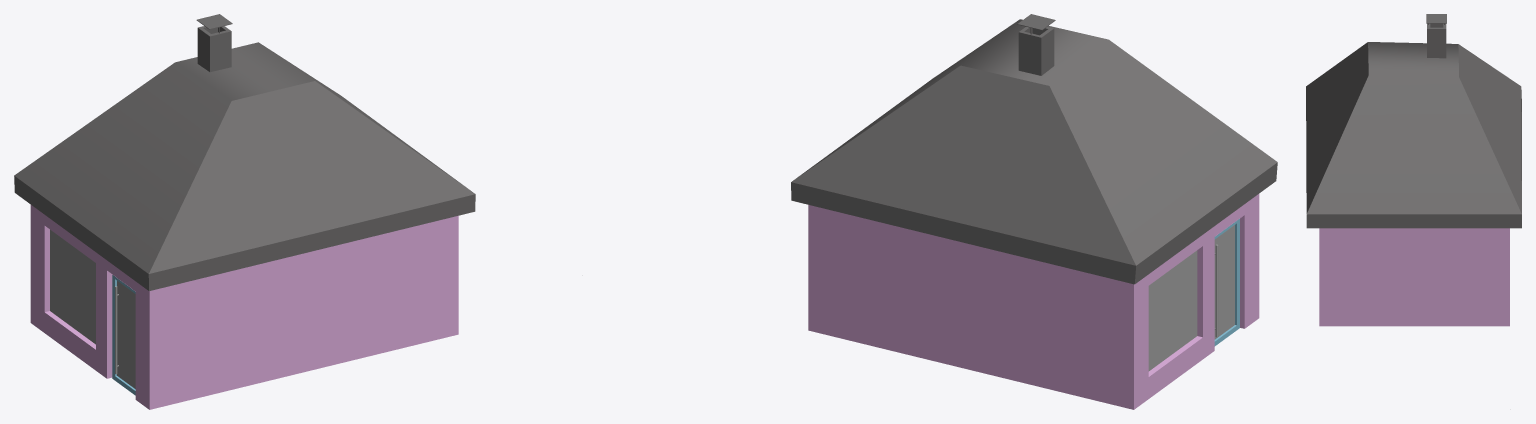
Rendered from baecker.fbx.
3 views of the same model, side by side, from view 1: azimuth 30°, elevation 25°; view 2: azimuth 150°, elevation 25°; view 3: azimuth 270°, elevation 25° (orthographic). The views are drawn at different scales.
Parts seen in each view (by area): view 1: roof, house, window2, pCube1, kamin, door1; view 2: roof, house, window2, pCube1, kamin, door1; view 3: roof, house, kamin, kaminOben.
Boxes of the visible parts, bbox=[...] form: roof: bbox=[14, 42, 475, 291]; house: bbox=[30, 205, 458, 409]; window2: bbox=[50, 229, 95, 344]; pCube1: bbox=[117, 281, 135, 388]; kamin: bbox=[197, 26, 231, 72]; door1: bbox=[112, 275, 135, 395]; roof: bbox=[791, 19, 1277, 284]; house: bbox=[808, 194, 1259, 409]; window2: bbox=[1148, 250, 1197, 371]; pCube1: bbox=[1214, 225, 1234, 339]; kamin: bbox=[1018, 26, 1054, 75]; door1: bbox=[1214, 218, 1239, 346]; roof: bbox=[1306, 42, 1521, 228]; house: bbox=[1319, 228, 1509, 326]; kamin: bbox=[1427, 23, 1446, 58]; kaminOben: bbox=[1426, 14, 1446, 23].
Bounding box in the file's own units: 10.34 × 5.58 × 4.53.
